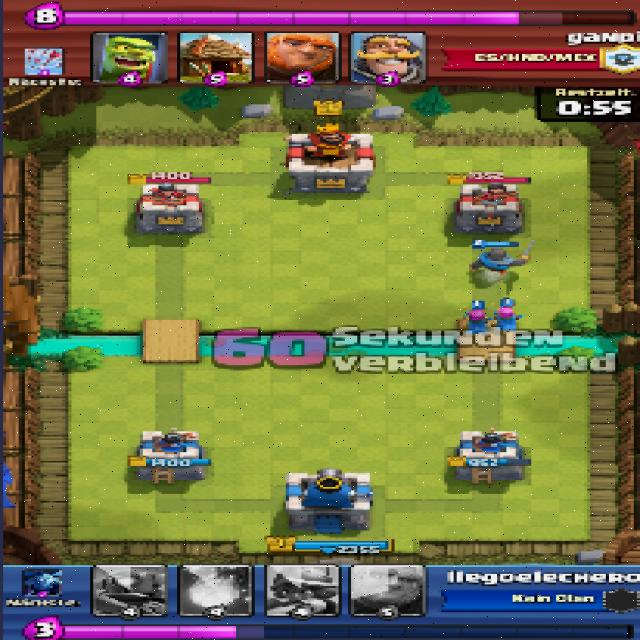Player-Archer: (491, 307, 527, 332), (464, 308, 491, 334)
Player-Knight: (464, 249, 531, 274)
